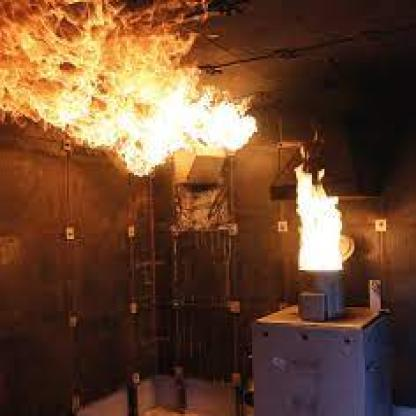fire: (6, 0, 252, 180), (295, 171, 346, 272)
